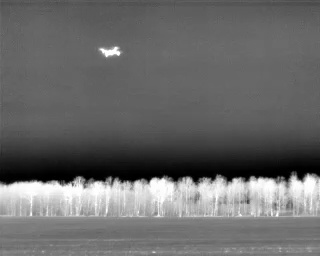DRONE: (95, 42, 126, 63)
